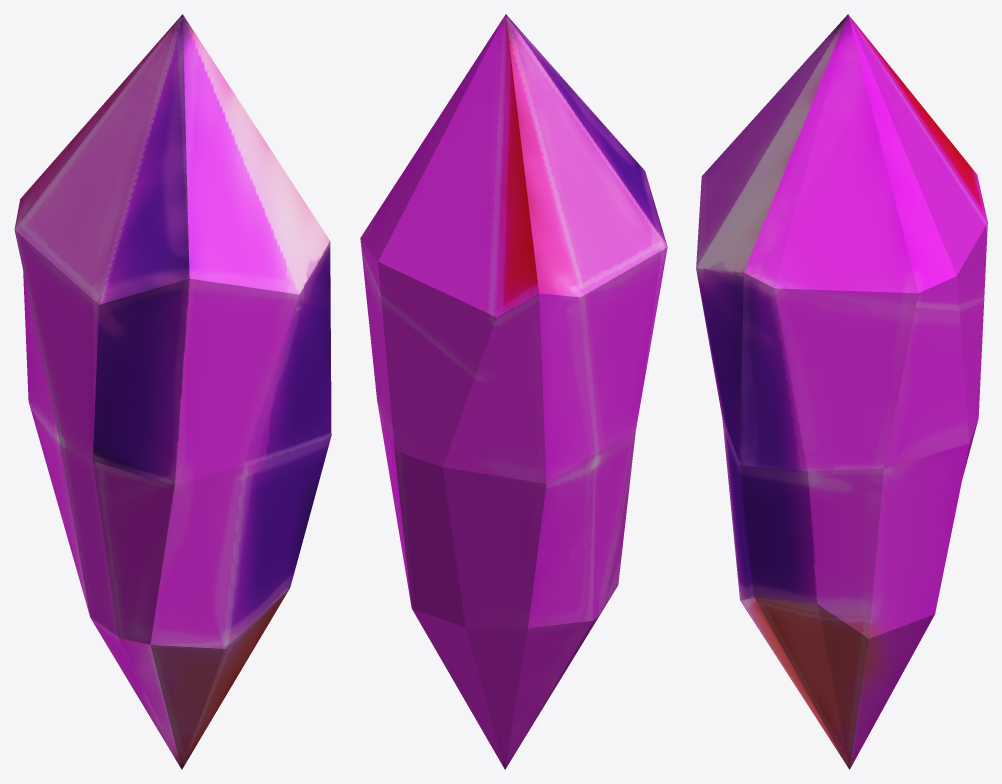
File: crystal_shard.fbx
The picture shows the model from 3 angles, left to right: view 1: azimuth 30°, elevation 25°; view 2: azimuth 150°, elevation 25°; view 3: azimuth 270°, elevation 25°; orthographic projection.
Parts seen in each view (by area): view 1: Cube; view 2: Cube; view 3: Cube.
Boxes of the visible parts, x1=… form: Cube: x1=14, y1=14, x2=331, y2=769; Cube: x1=360, y1=14, x2=667, y2=769; Cube: x1=696, y1=14, x2=987, y2=769.
Size of the model in its own units: 61.27 by 189 by 66.25.
Materials: 1 (1 with a texture image).
